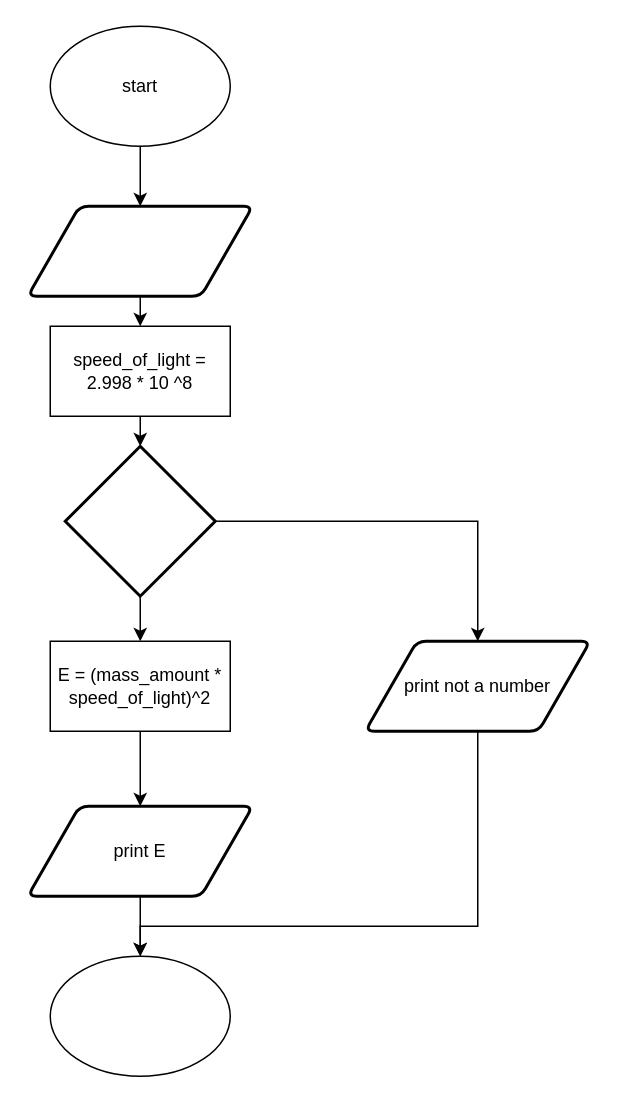
Some shapes in this 617 by 1103 pixel diagram are drawn without their labels. Each missing label, with the centre of its shape:
get mass_amount: point (140, 250)
stop: point (139, 1015)
try: point (139, 520)
